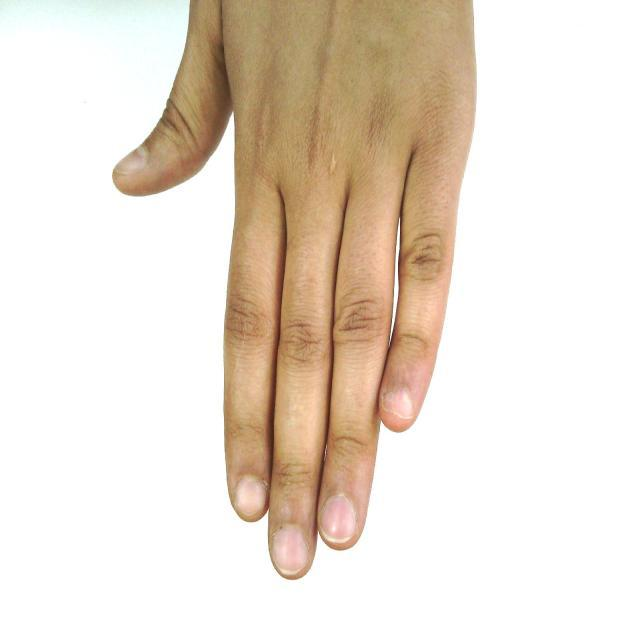Fingernail: (273, 527, 308, 574), (321, 496, 354, 540), (236, 479, 266, 516), (115, 148, 145, 174), (388, 391, 413, 417)
